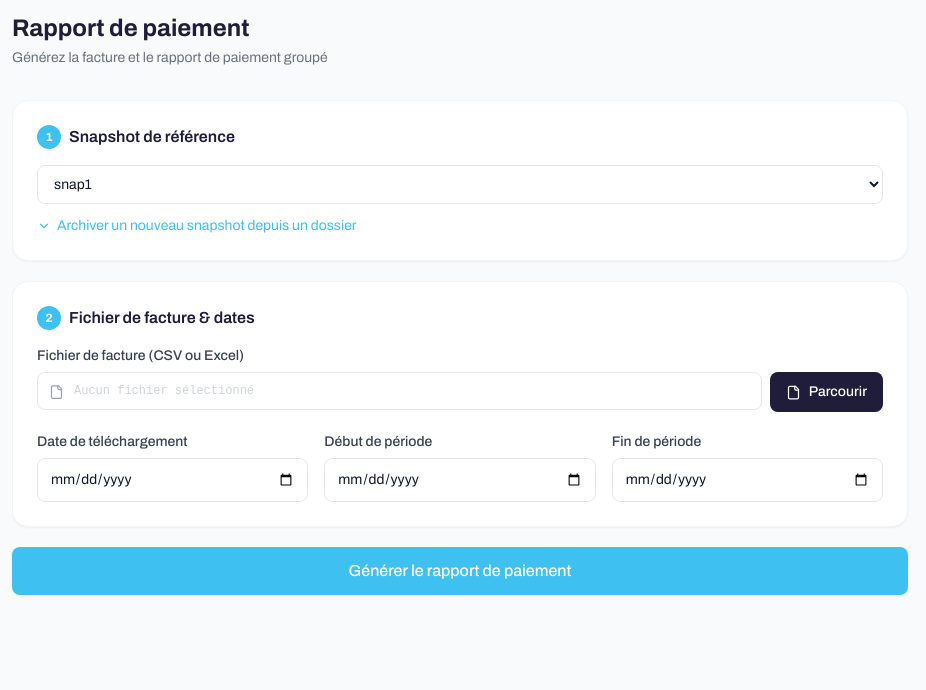
it: PaymentPage — validation › shows error when Run is clicked with no invoice file
Click the button "Générer le rapport de paiement": (460, 571) [12,547,908,595]
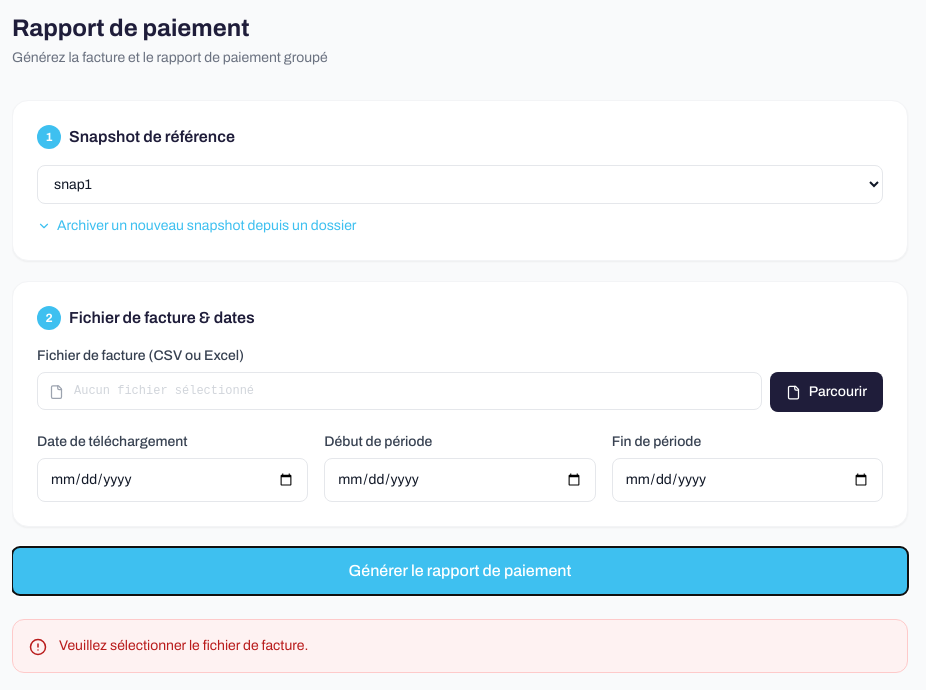
Check: the text "Veuillez sélectionner le fichier de facture." is shown, box [59,636,308,656]
